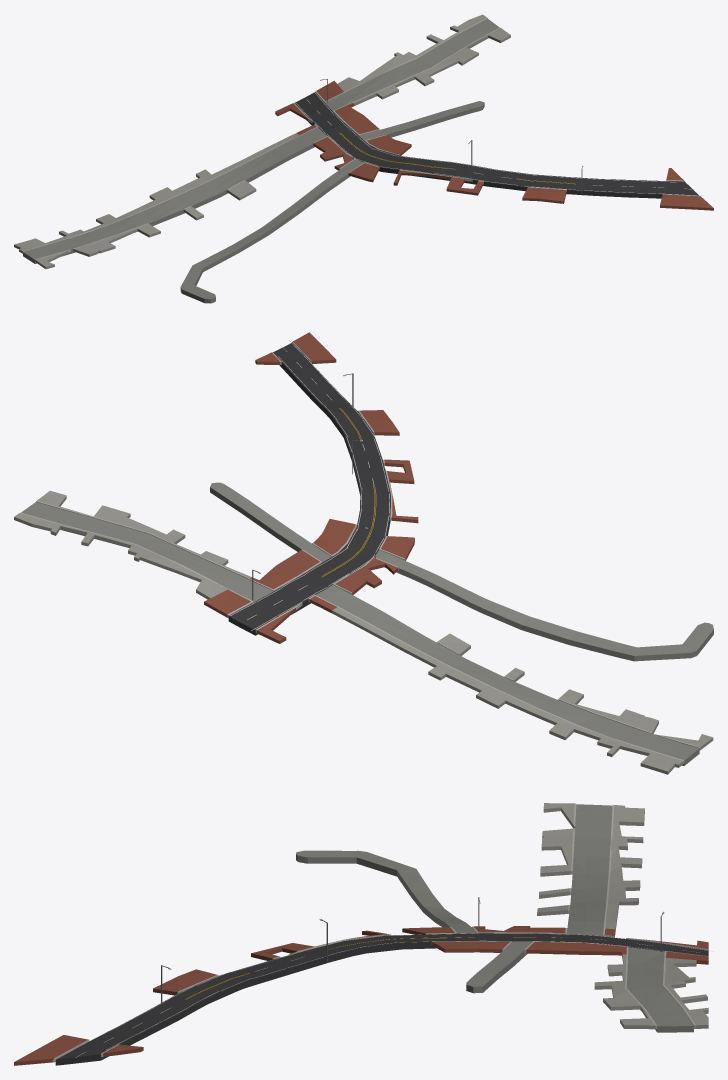
The picture shows the model from 3 angles, top to bottom: view 1: azimuth 30°, elevation 25°; view 2: azimuth 150°, elevation 25°; view 3: azimuth 270°, elevation 25°; orthographic projection. The views are drawn at different scales.
Size of the model in its own units: 148 by 28.2 by 120.
